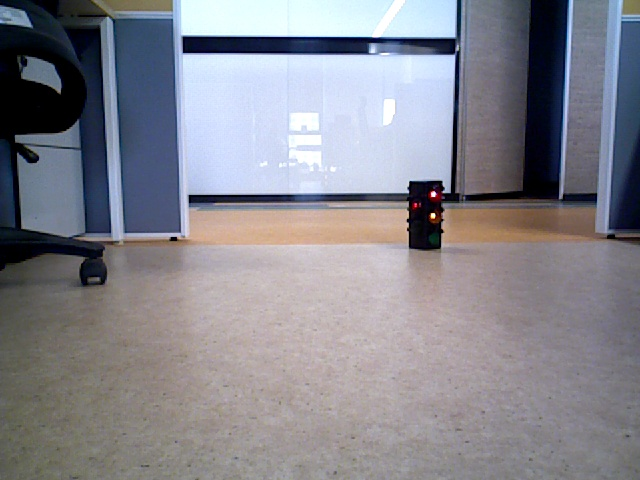red: (410, 182, 442, 249)
